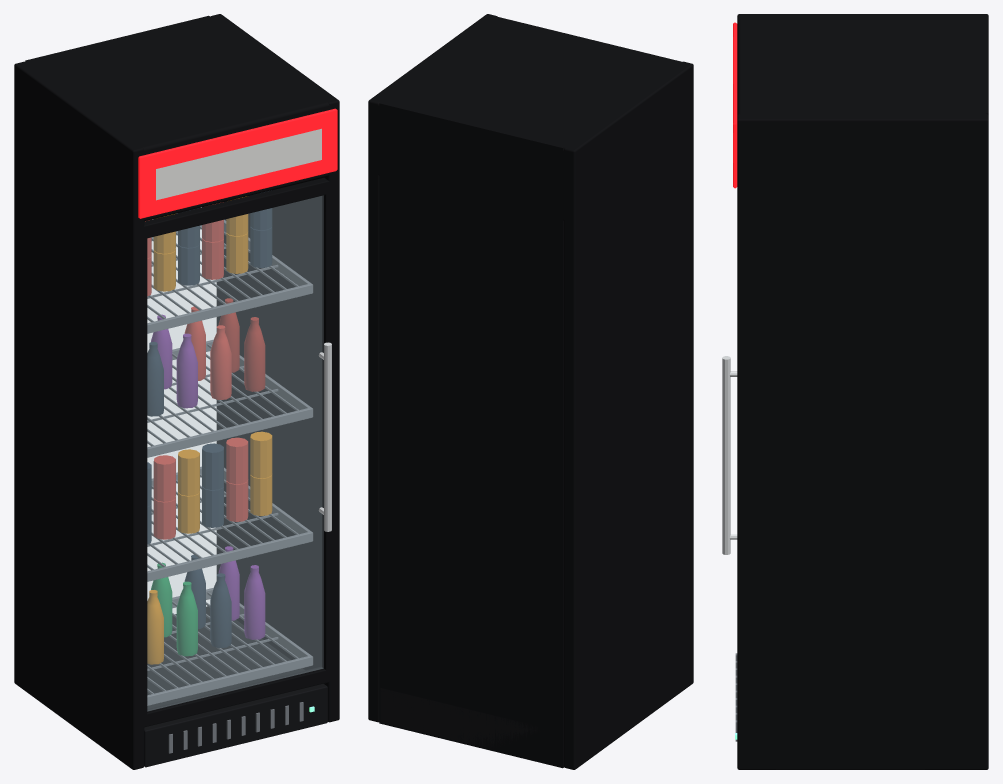
File: drinks-fridge.glb
The picture shows the model from 3 angles, left to right: view 1: azimuth 30°, elevation 25°; view 2: azimuth 150°, elevation 25°; view 3: azimuth 270°, elevation 25°; orthographic projection. The views are drawn at different scales.
Visible parts, largest first — view 1: BODY, GLASS, STOCK, LIGHT, LABEL; view 2: BODY; view 3: BODY, LIGHT.
Boxes of the visible parts, x1,y1,x2,y2 form: BODY: (14, 14, 339, 769); GLASS: (147, 196, 323, 711); STOCK: (145, 190, 272, 664); LIGHT: (138, 108, 337, 613); LABEL: (156, 128, 321, 200); BODY: (368, 14, 693, 769); BODY: (722, 14, 988, 769); LIGHT: (733, 22, 737, 188).
Size of the model in its own units: 0.7 by 2 by 0.742.
